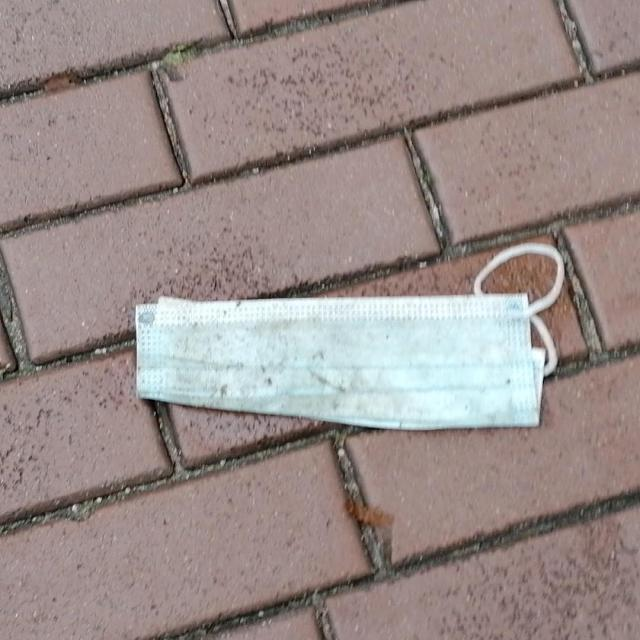Mask: (130, 238, 566, 433)
